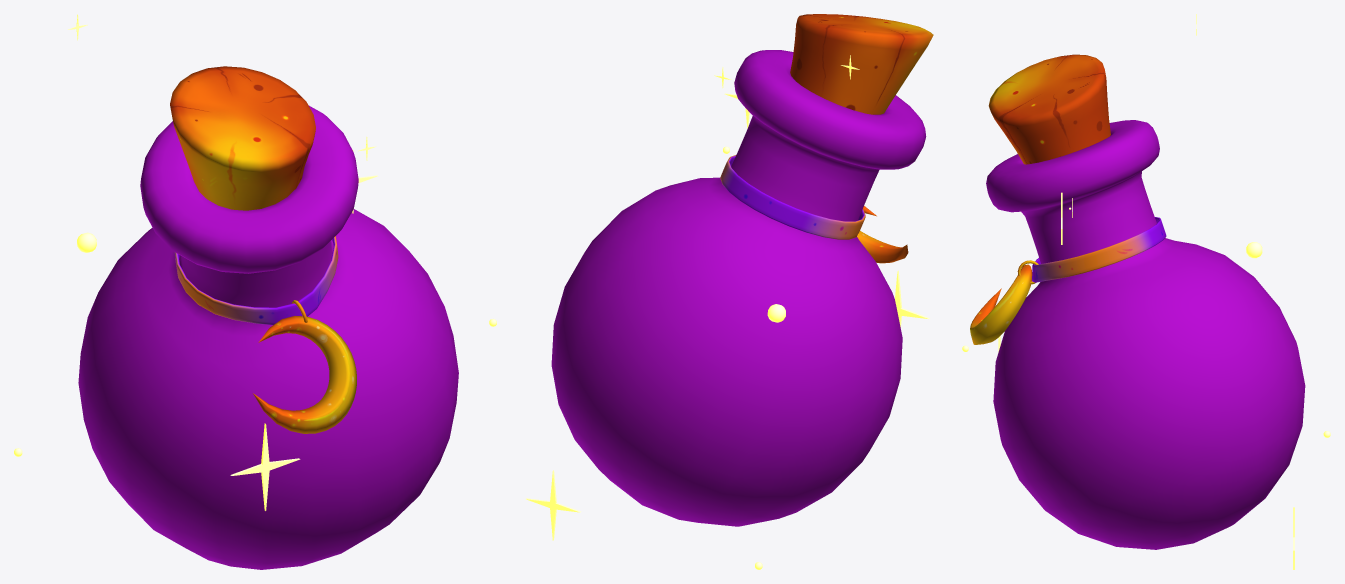
The model's file is potion.glb.
3 renders of one model, left to right at view 1: azimuth 30°, elevation 25°; view 2: azimuth 150°, elevation 25°; view 3: azimuth 270°, elevation 25°, orthographic. The views are drawn at different scales.
Visible parts, largest first — view 1: Bottle_LP.002, Cork_LP, Moon_LP.002, Roundcube.009, Plane.001; view 2: Bottle_LP.002, Cork_LP, Roundcube.009, Moon_LP.002, Plane.004; view 3: Bottle_LP.002, Cork_LP, Roundcube.009, Moon_LP.002.
Boxes of the visible parts, bbox=[...] form: Bottle_LP.002: bbox=[78, 105, 458, 569]; Cork_LP: bbox=[170, 66, 315, 210]; Moon_LP.002: bbox=[253, 316, 356, 433]; Roundcube.009: bbox=[174, 236, 338, 324]; Plane.001: bbox=[230, 423, 300, 510]; Bottle_LP.002: bbox=[551, 50, 926, 526]; Cork_LP: bbox=[790, 14, 933, 114]; Roundcube.009: bbox=[720, 155, 865, 239]; Moon_LP.002: bbox=[857, 206, 908, 263]; Plane.004: bbox=[525, 470, 581, 540]; Bottle_LP.002: bbox=[986, 120, 1305, 549]; Cork_LP: bbox=[988, 54, 1110, 164]; Roundcube.009: bbox=[1032, 217, 1166, 282]; Moon_LP.002: bbox=[970, 264, 1032, 344].
Size of the model in its own units: 0.1498 by 0.2349 by 0.1719.
4 materials, 2 textured.
